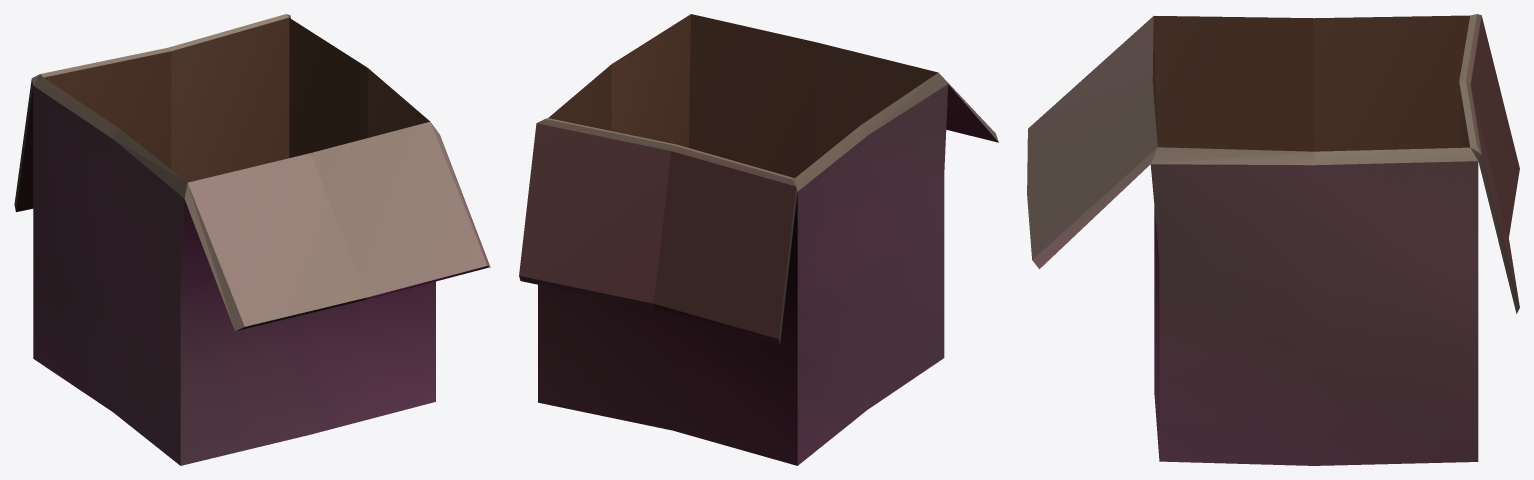
File: open_cardboard_box.FBX
3 renders of one model, left to right at view 1: azimuth 30°, elevation 25°; view 2: azimuth 150°, elevation 25°; view 3: azimuth 270°, elevation 25°, orthographic. The views are drawn at different scales.
Parts seen in each view (by area): view 1: open cardboard box; view 2: open cardboard box; view 3: open cardboard box.
Part boxes in pixels (box(x1,y1,x2,y2)): open cardboard box: box(14, 14, 490, 465); open cardboard box: box(519, 14, 998, 465); open cardboard box: box(1027, 14, 1519, 465).
Size of the model in its own units: 0.942 by 0.9594 by 1.37.
